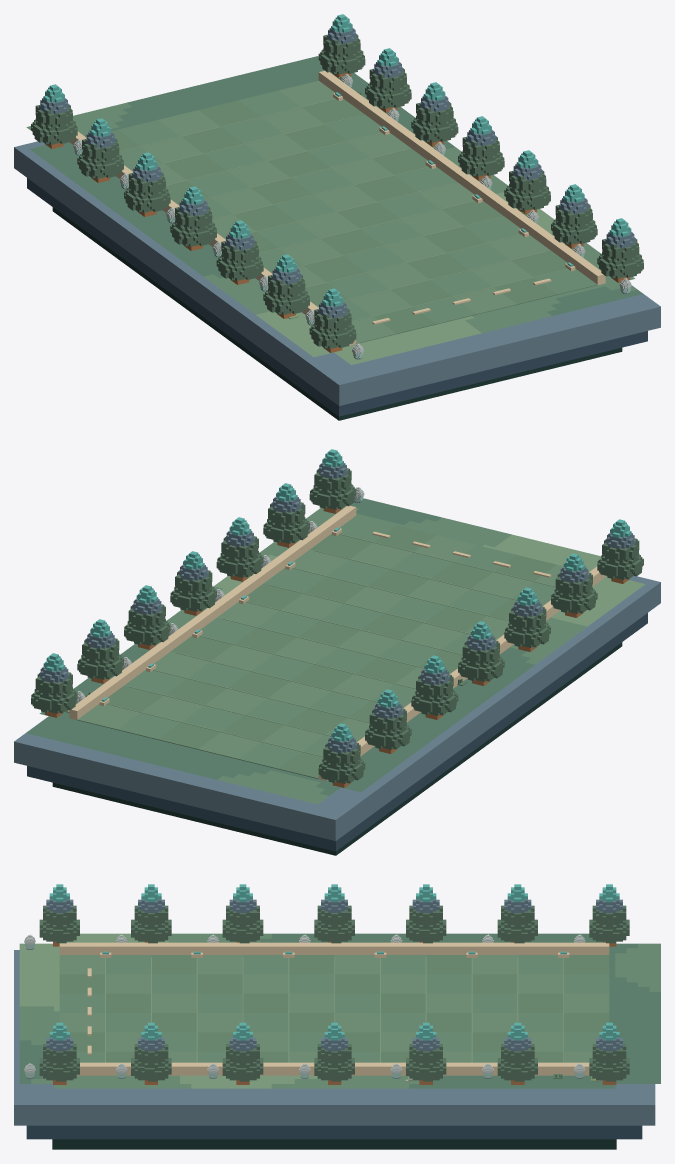
File: chain_polluted.glb
3 views of the same model, one above another, from view 1: azimuth 30°, elevation 25°; view 2: azimuth 150°, elevation 25°; view 3: azimuth 270°, elevation 25° (orthographic).
Visible parts, largest first — view 1: chain_ground, chain_occluders; view 2: chain_ground, chain_occluders; view 3: chain_ground, chain_occluders.
Boxes of the visible parts, left/top/right/bottom form: chain_ground: left=14, top=56, right=660, bottom=420; chain_occluders: left=31, top=14, right=643, bottom=352; chain_ground: left=14, top=487, right=660, bottom=855; chain_occluders: left=31, top=449, right=643, bottom=787; chain_ground: left=14, top=933, right=660, bottom=1149; chain_occluders: left=39, top=884, right=629, bottom=1084.
Bounding box in the file's own units: 16.28 × 6.1 × 28.25.
